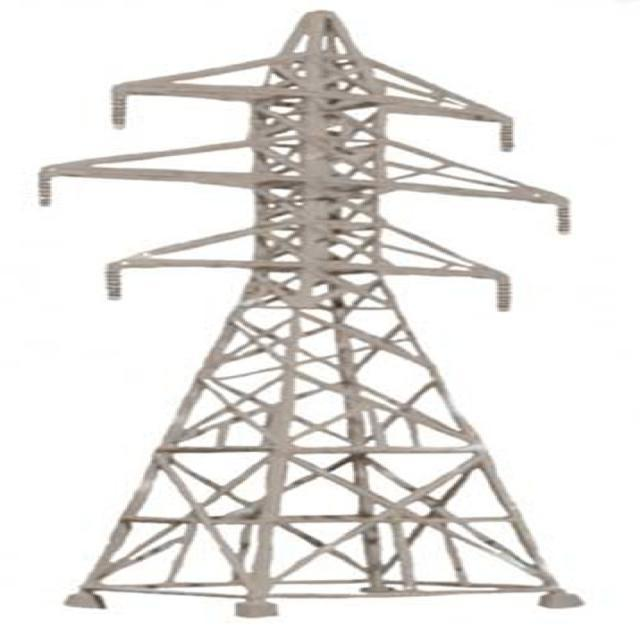non-critical vegetation: (9, 3, 626, 616)
